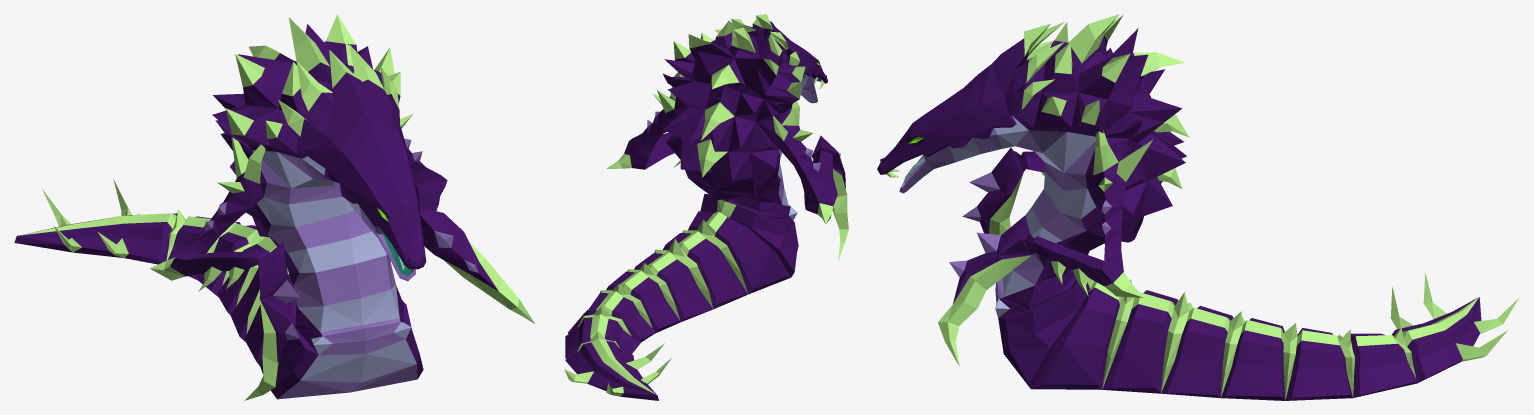
3 renders of one model, left to right at view 1: azimuth 30°, elevation 25°; view 2: azimuth 150°, elevation 25°; view 3: azimuth 270°, elevation 25°, orthographic. The views are drawn at different scales.
Parts seen in each view (by area): view 1: Alien_Serpent; view 2: Alien_Serpent; view 3: Alien_Serpent.
Boxes of the visible parts, box(x1,y1,x2,y2) form: Alien_Serpent: box(14, 14, 534, 400); Alien_Serpent: box(564, 14, 848, 400); Alien_Serpent: box(877, 14, 1519, 400).
Size of the model in its own units: 189 by 215 by 369.
Materials: 1 (1 with a texture image).
